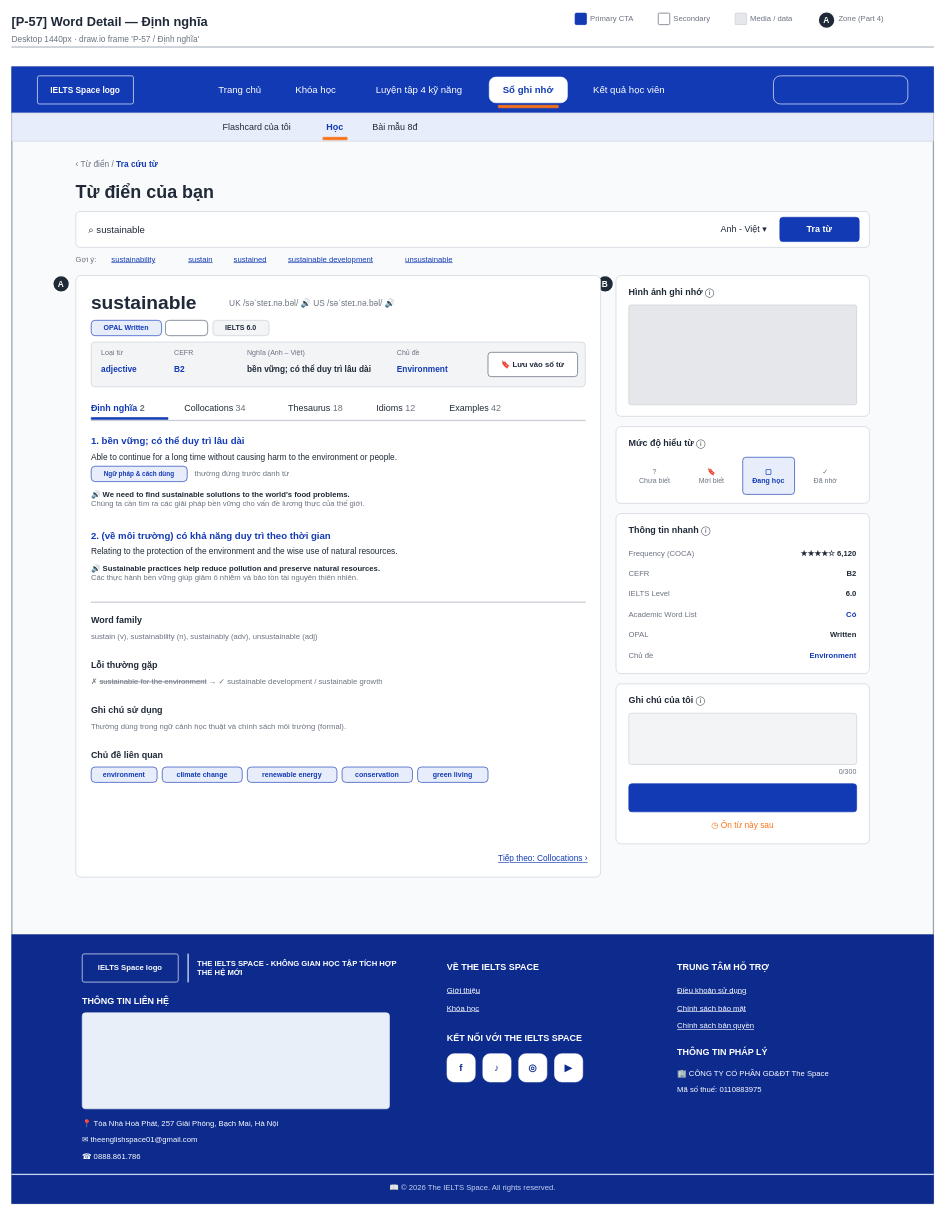
Image size: 945x1215. Some labels were removed from this diagram. The shapes that lost their labels are listed below. From the top down, each one's centre as x and y in pixels, then its label:
At [840,89]: "◯ Học viên · 30 Points ▾".
At [186,328]: "formal".
At [742,354]: "▨ Ảnh minh hoạ (Gen AI)".
At [742,738]: "Thêm ghi chú hoặc ví dụ của bạn…".
At [742,797]: "🔖 Lưu và học từ này".
At [235,1060]: "📍 The IELTS Space Mở trong Maps ↗".
